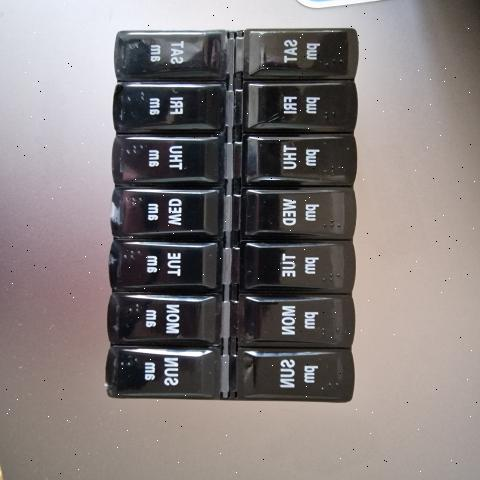FRI-am: (121, 88, 214, 129)
FRI-pm: (253, 84, 349, 132)
MON-am: (112, 287, 219, 335)
MON-pm: (242, 296, 347, 347)
SAT-am: (115, 38, 219, 82)
SAT-pm: (246, 32, 353, 74)
SUN-am: (109, 337, 223, 390)
SUN-pm: (239, 346, 344, 398)
THU-am: (122, 144, 218, 199)
THU-pm: (248, 136, 351, 179)
TUE-am: (115, 236, 221, 282)
TUE-pm: (249, 242, 345, 285)
WED-am: (112, 196, 217, 238)
WED-pm: (238, 190, 356, 238)
